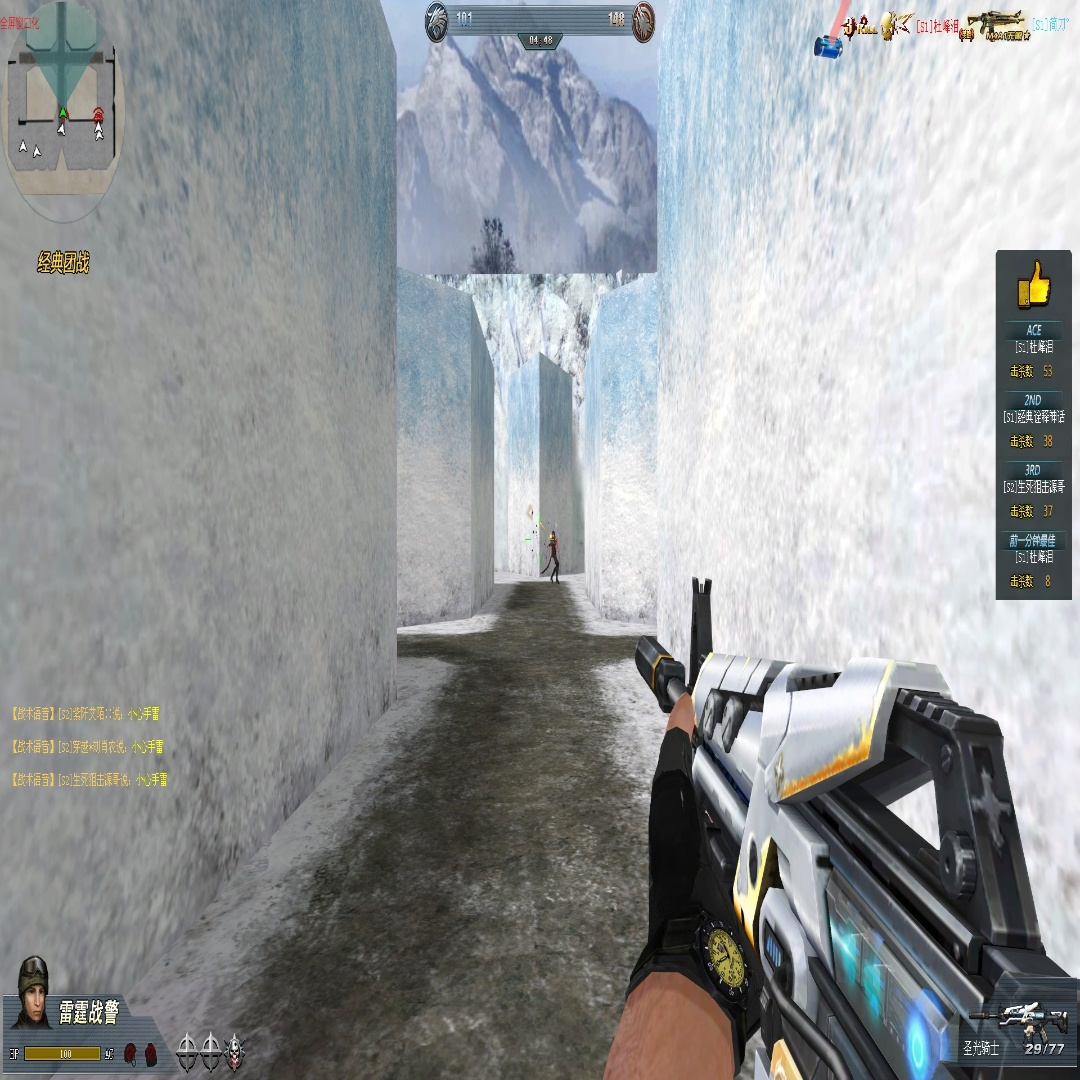head: (551, 531, 555, 539)
t: (550, 528, 560, 585)
